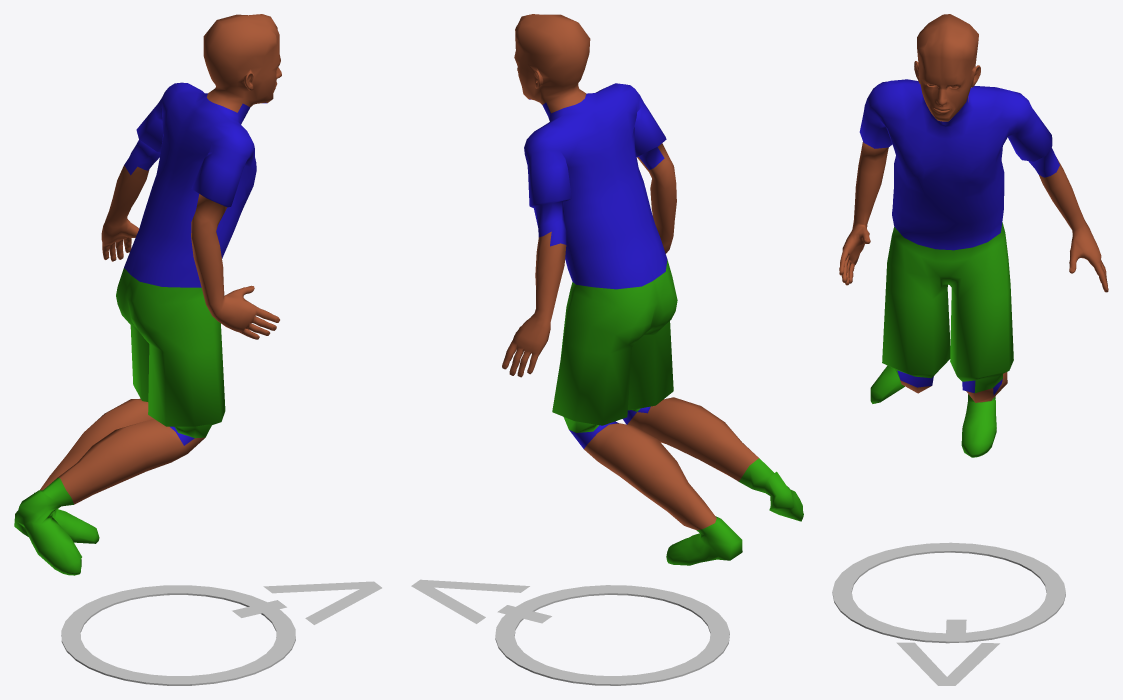
File: playerAI_000012.obj
The picture shows the model from 3 angles, left to right: view 1: azimuth 30°, elevation 25°; view 2: azimuth 150°, elevation 25°; view 3: azimuth 270°, elevation 25°; orthographic projection.
Parts seen in each view (by area): view 1: soccerplayer.003_mesh.002, Circle.001, Text_Mesh; view 2: soccerplayer.003_mesh.002, Circle.001, Text_Mesh; view 3: soccerplayer.003_mesh.002, Circle.001, Text_Mesh.
Part boxes in pixels (bbox=[...]): soccerplayer.003_mesh.002: bbox=[14, 14, 281, 575]; Circle.001: bbox=[61, 585, 295, 685]; Text_Mesh: bbox=[232, 581, 381, 624]; soccerplayer.003_mesh.002: bbox=[502, 14, 803, 565]; Circle.001: bbox=[495, 585, 729, 685]; Text_Mesh: bbox=[411, 579, 551, 623]; soccerplayer.003_mesh.002: bbox=[839, 14, 1108, 457]; Circle.001: bbox=[832, 542, 1065, 643]; Text_Mesh: bbox=[896, 619, 999, 685].
Bounding box in the file's own units: 1.98 × 3.09 × 1.28.
